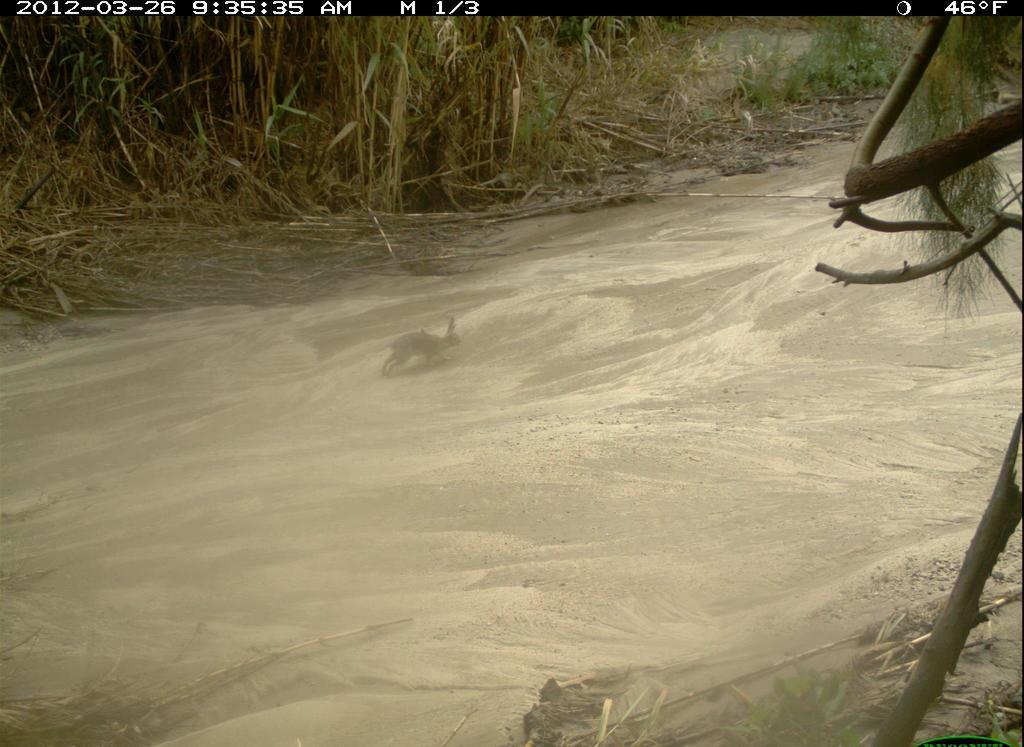rabbit: (373, 309, 468, 386)
